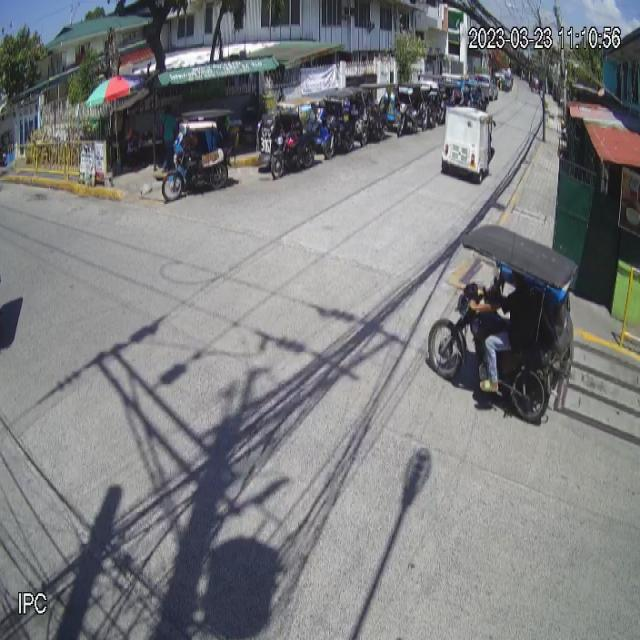Tricycle: (428, 224, 578, 423)
